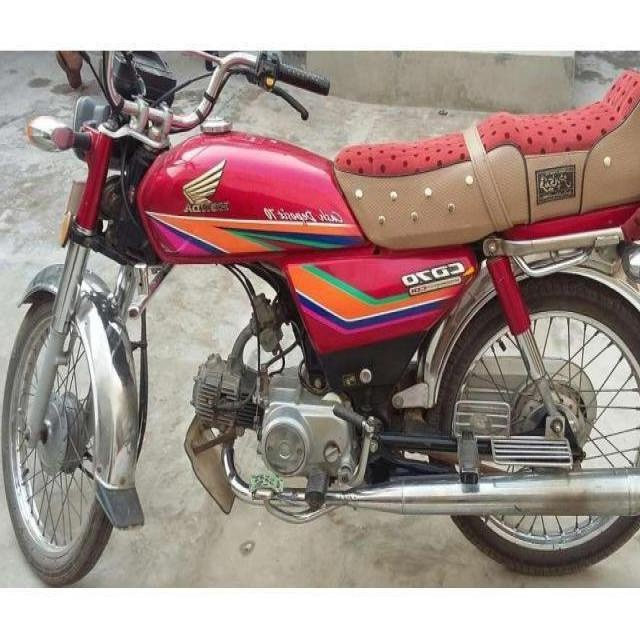motorcycle: (8, 47, 632, 584)
